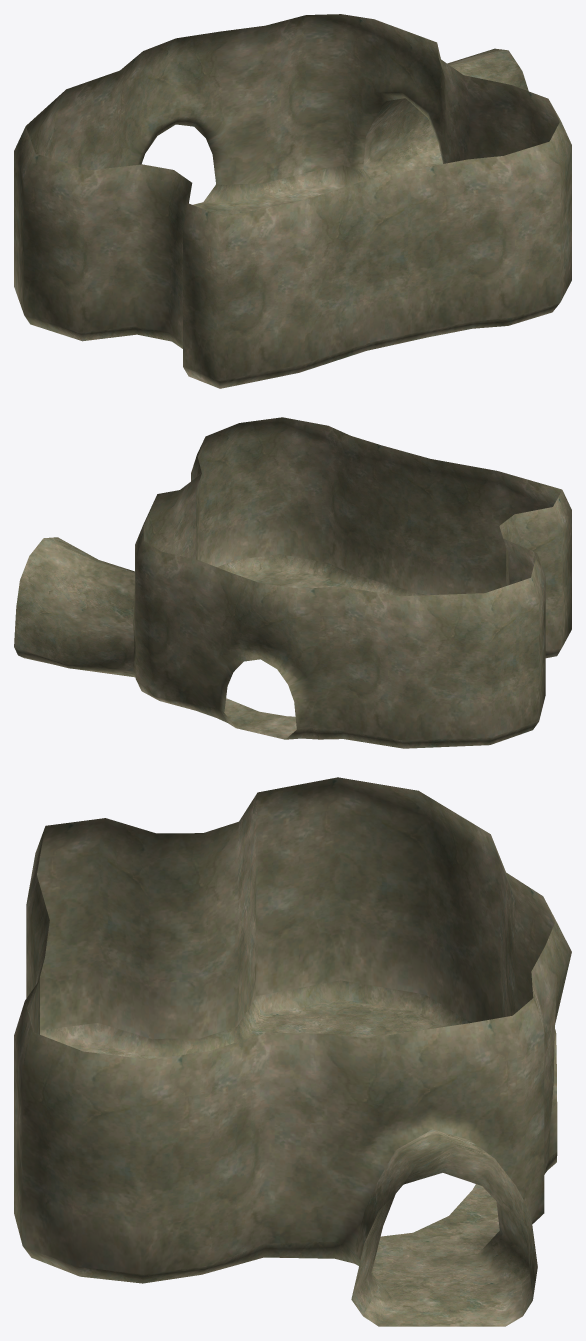
File: OVERHILL_A_01_CHIMNEY_CAVE.fbx
3 renders of one model, top to bottom at view 1: azimuth 30°, elevation 25°; view 2: azimuth 150°, elevation 25°; view 3: azimuth 270°, elevation 25°, orthographic. The views are drawn at different scales.
Parts seen in each view (by area): view 1: OVERHILL_A_01_CHIMNEY_CAVE; view 2: OVERHILL_A_01_CHIMNEY_CAVE; view 3: OVERHILL_A_01_CHIMNEY_CAVE.
Part boxes in pixels (<box>): OVERHILL_A_01_CHIMNEY_CAVE: <box>14,14,571,388</box>; OVERHILL_A_01_CHIMNEY_CAVE: <box>14,417,571,748</box>; OVERHILL_A_01_CHIMNEY_CAVE: <box>14,777,571,1326</box>.
Size of the model in its own units: 148413 by 46832 by 104064.
Materials: 1 (1 with a texture image).
